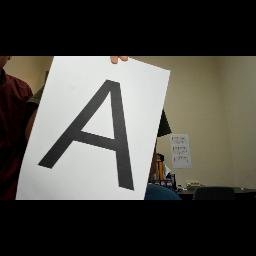a: (32, 74, 140, 196)
